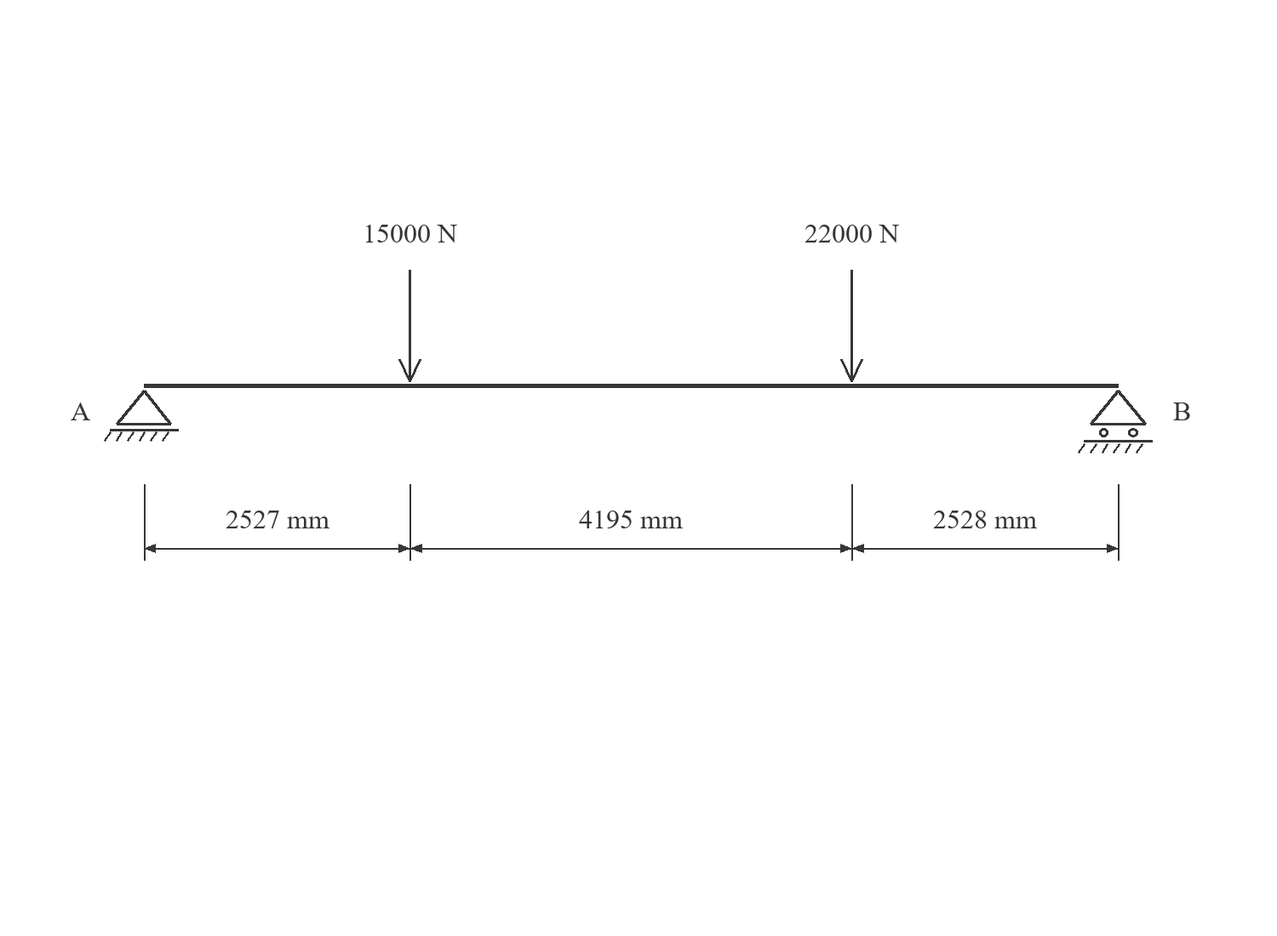pin_support: (104, 390, 179, 442)
point_load: (398, 270, 421, 382), (840, 270, 863, 382)
roller_support: (1078, 390, 1153, 454)
